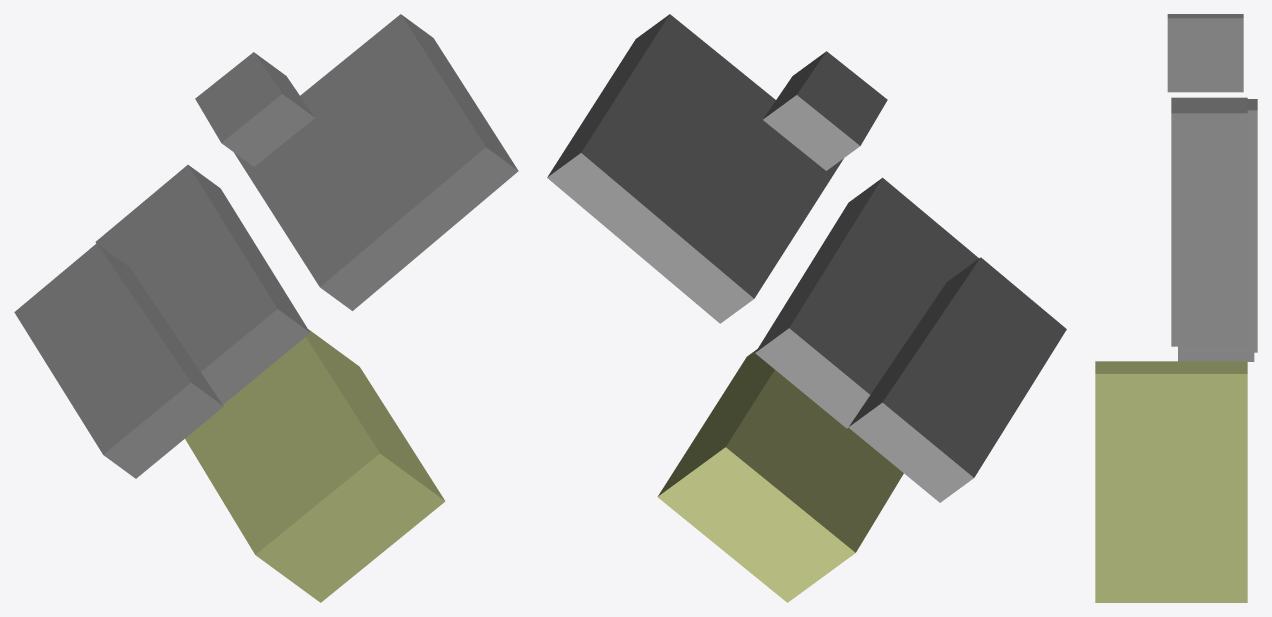
The picture shows the model from 3 angles, left to right: view 1: azimuth 30°, elevation 25°; view 2: azimuth 150°, elevation 25°; view 3: azimuth 270°, elevation 25°; orthographic projection. The views are drawn at different scales.
Visible parts, largest first — view 1: 0_1_1_3_2_2_3_3_1_0; view 2: 0_1_1_3_2_2_3_3_1_0; view 3: 0_1_1_3_2_2_3_3_1_0.
Part boxes in pixels (<box>): 0_1_1_3_2_2_3_3_1_0: <box>14,14,518,602</box>; 0_1_1_3_2_2_3_3_1_0: <box>547,14,1066,602</box>; 0_1_1_3_2_2_3_3_1_0: <box>1095,14,1257,602</box>.
Size of the model in its own units: 24.79 by 25.54 by 6.4.
